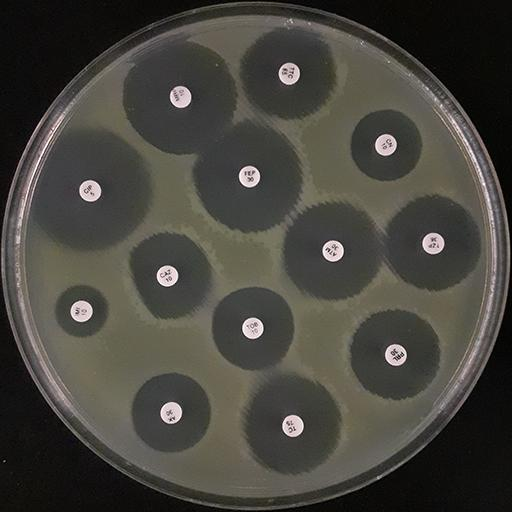disc: (384, 343, 407, 366), (281, 414, 304, 437), (238, 166, 261, 188), (241, 317, 264, 339), (156, 265, 179, 287), (70, 300, 93, 322), (278, 63, 300, 85), (170, 86, 192, 108), (375, 134, 397, 156), (322, 240, 344, 262), (422, 232, 444, 254), (160, 401, 182, 423), (79, 180, 101, 202)
